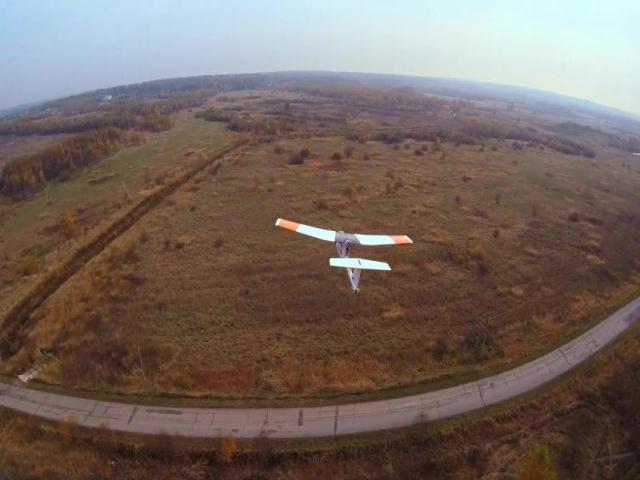hedef: (274, 216, 424, 298)
